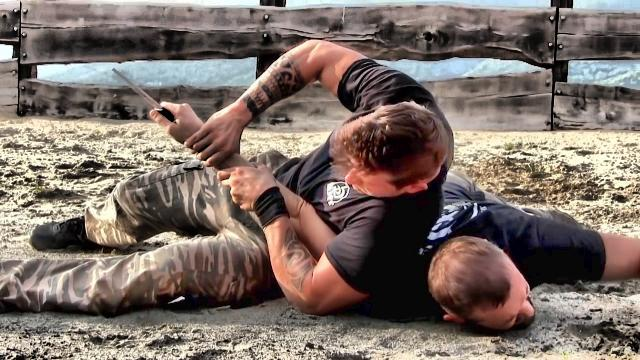knife: (110, 63, 184, 149)
